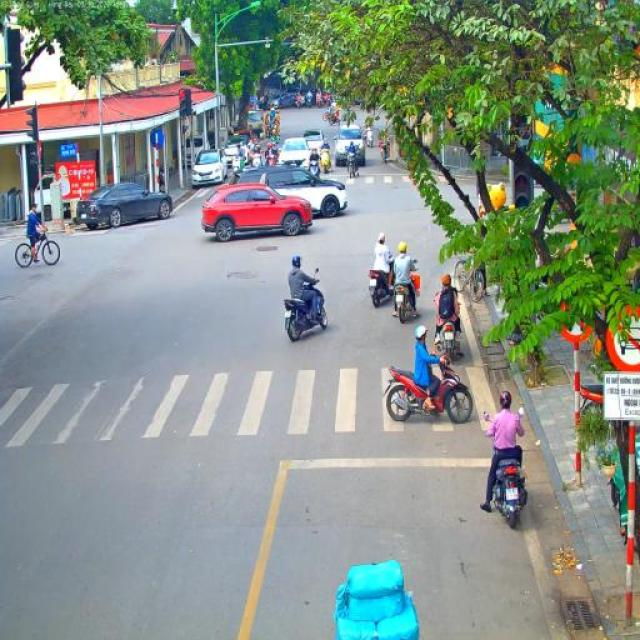car: (200, 182, 314, 242), (231, 166, 348, 219), (76, 182, 174, 228), (334, 124, 366, 168), (191, 148, 228, 186), (278, 137, 311, 168), (221, 135, 250, 170), (302, 129, 324, 162), (270, 92, 300, 109), (233, 129, 252, 147)
motorcycle: (383, 354, 475, 424), (482, 406, 528, 529), (283, 268, 328, 342), (392, 259, 422, 323), (368, 258, 397, 308), (434, 319, 464, 365), (571, 382, 604, 423), (346, 151, 360, 179), (322, 107, 340, 125), (248, 148, 264, 168), (320, 148, 332, 174), (378, 143, 392, 163), (308, 159, 321, 180), (231, 156, 244, 176), (264, 150, 278, 166), (364, 126, 374, 148), (270, 141, 280, 158), (269, 119, 276, 136), (315, 96, 323, 109), (295, 98, 303, 110), (306, 97, 312, 109), (322, 95, 328, 106)
truck: (258, 76, 284, 110), (238, 110, 264, 140)
